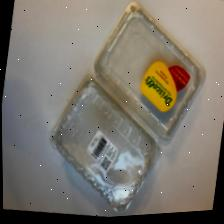plastic: (49, 4, 208, 216)
